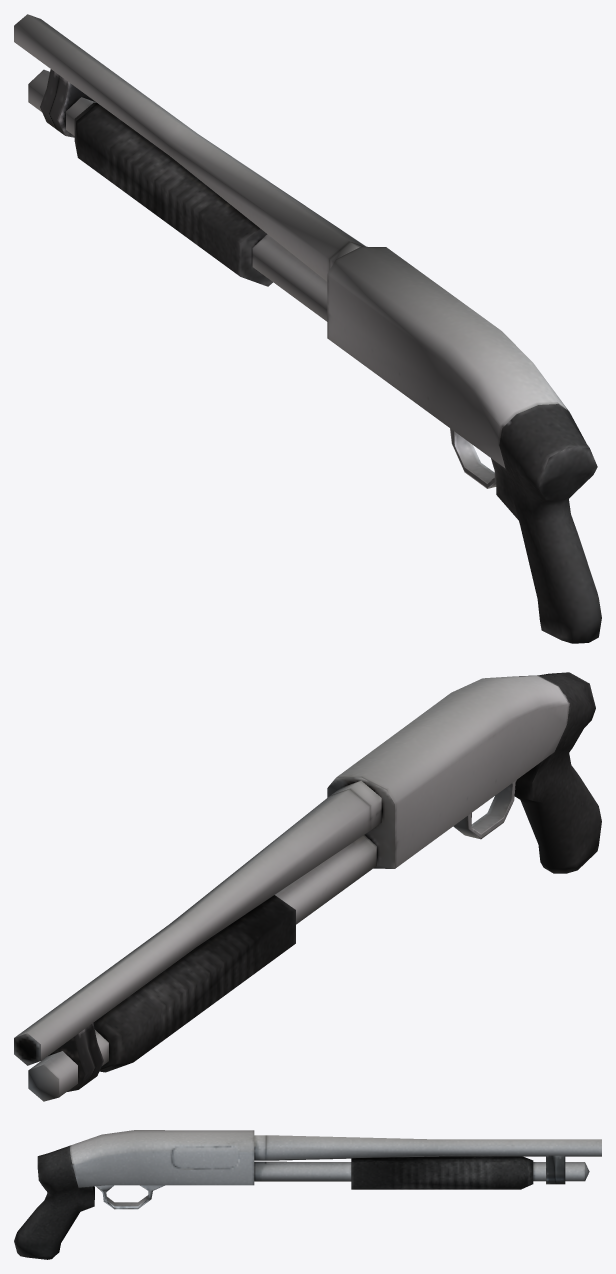
File: Mossberg_Tactical.fbx
3 views of the same model, one above another, from view 1: azimuth 30°, elevation 25°; view 2: azimuth 150°, elevation 25°; view 3: azimuth 270°, elevation 25° (orthographic). The views are drawn at different scales.
Parts seen in each view (by area): view 1: Mossberg_Tactical; view 2: Mossberg_Tactical; view 3: Mossberg_Tactical.
Part boxes in pixels (x1=…): Mossberg_Tactical: x1=14, y1=14, x2=601, y2=643; Mossberg_Tactical: x1=14, y1=672, x2=601, y2=1101; Mossberg_Tactical: x1=14, y1=1130, x2=601, y2=1259.
Size of the model in its own units: 0.0274 by 0.3957 by 0.0918.
